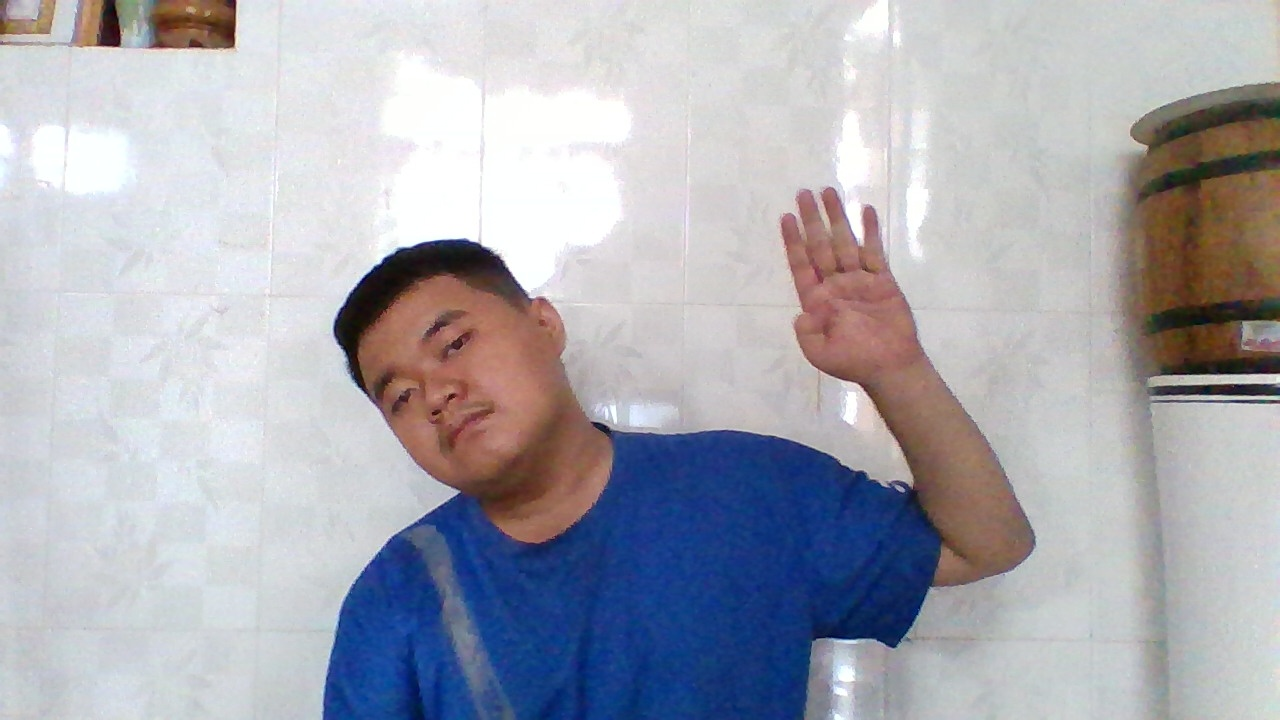B: (769, 176, 909, 387)
